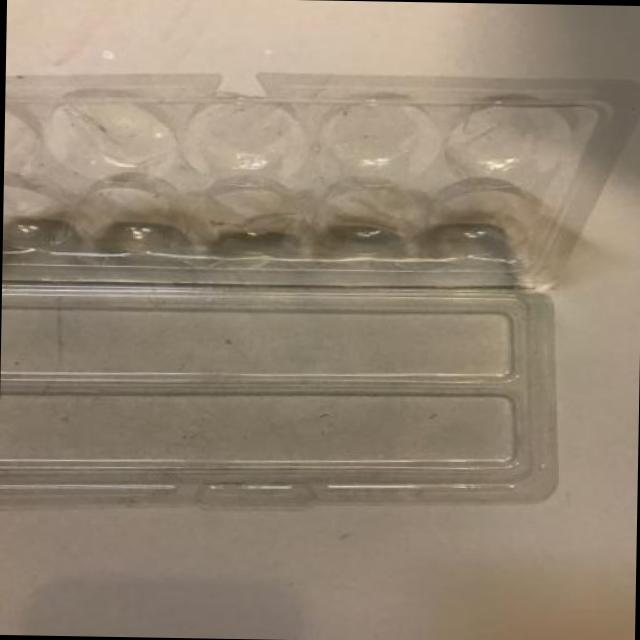Clamshell: (0, 64, 639, 541)
